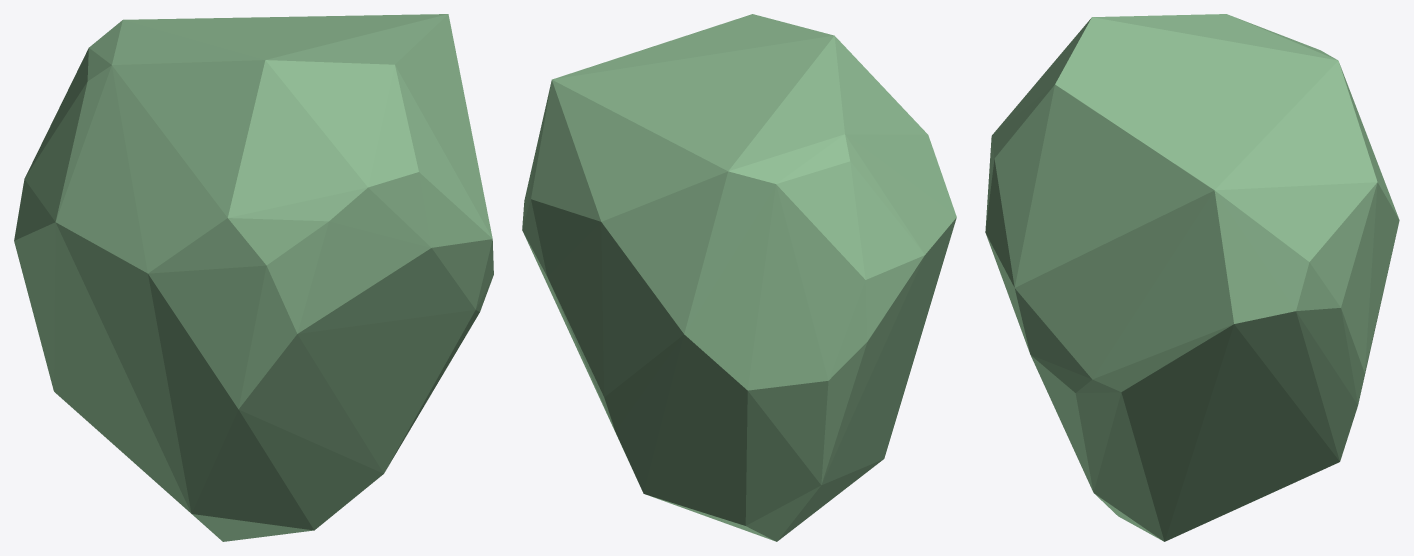
Rendered from food_produce_mango_h01.glb.
The picture shows the model from 3 angles, left to right: view 1: azimuth 30°, elevation 25°; view 2: azimuth 150°, elevation 25°; view 3: azimuth 270°, elevation 25°; orthographic projection. The views are drawn at different scales.
Visible parts, largest first — view 1: geometry_0; view 2: geometry_0; view 3: geometry_0.
Part boxes in pixels (box(x1,y1,x2,y2)): geometry_0: box(14, 14, 493, 541); geometry_0: box(522, 14, 956, 541); geometry_0: box(985, 14, 1399, 541).
Size of the model in its own units: 0.3687 by 0.4362 by 0.33.
